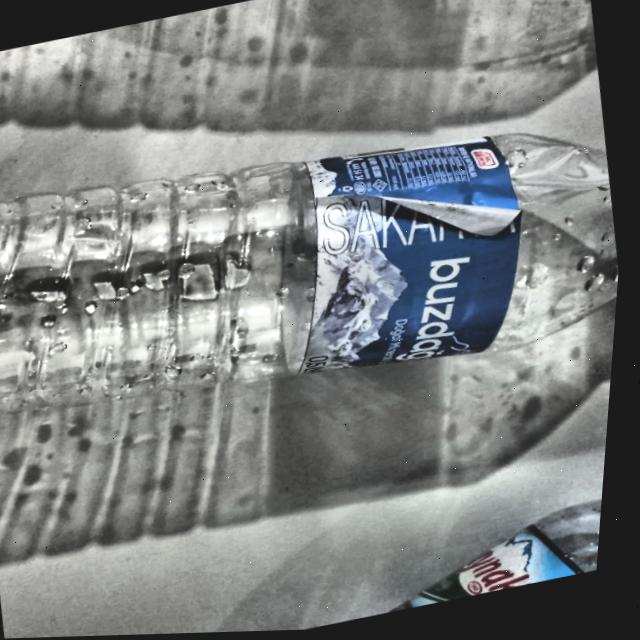plastic: (0, 135, 623, 419)
